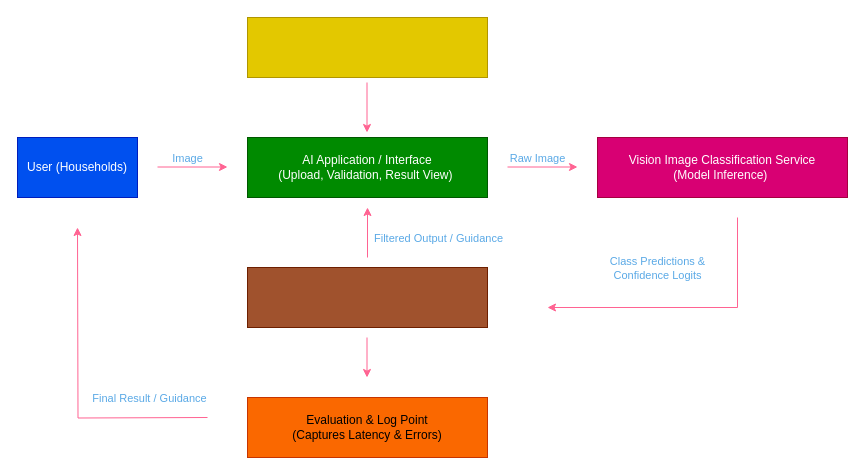
Image size: 865x475. Some labels were removed from this diagram. Each missing label, with the centre of its shape:
"Disposal Rules Knowledge (SWCorp / EPA Guidance Guidelines)" goes at [367,47].
"Scope & Confidence Filter (Evaluates Safety Threshold)" goes at [367,297].
